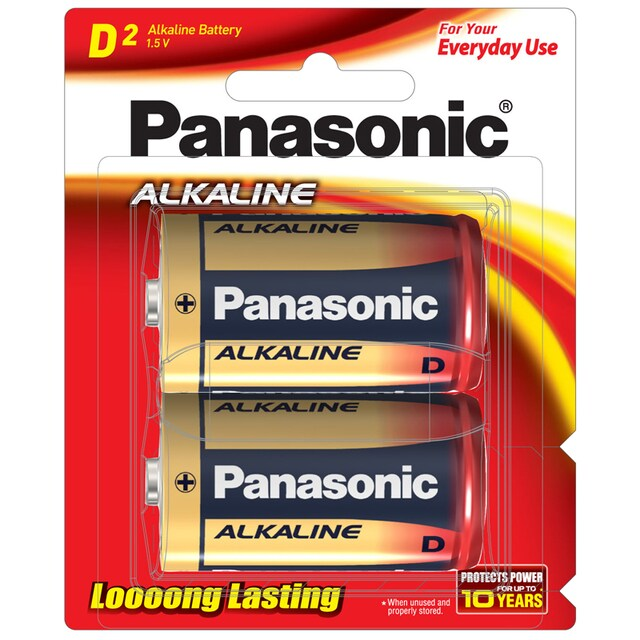Battery: (144, 214, 488, 396), (143, 396, 488, 573)
